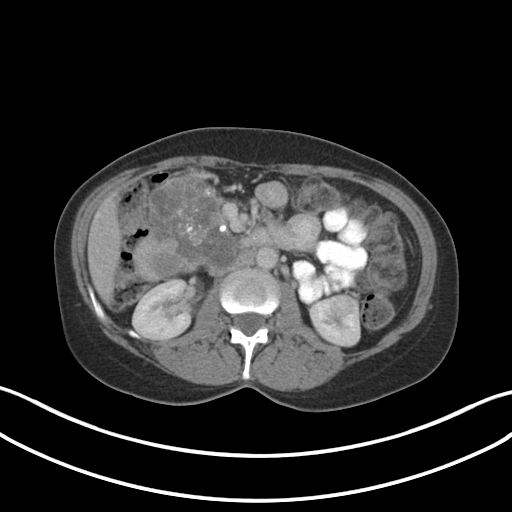Lesion: (322, 294, 356, 321)
